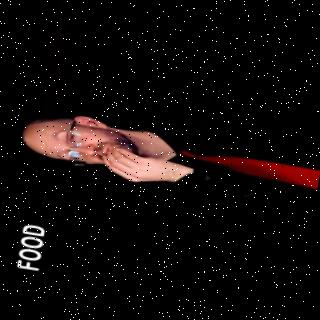Food: (11, 90, 306, 218)
